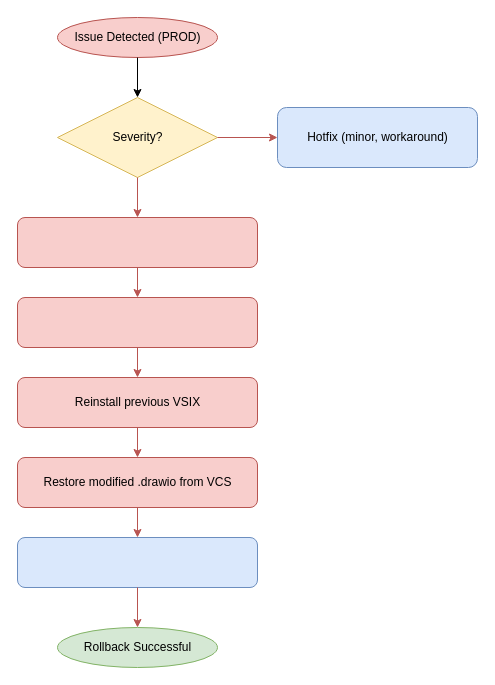
Image size: 495x685. Some labels were removed from this diagram. The box of each missing label's shape, as (x1, y1, x2, y2) in pixels:
Revert code: git checkout prev tag: (16, 296, 258, 348)
Stop broken version (uninstall VSIX): (16, 216, 258, 268)
Verify: tool call returns old behavior: (16, 536, 258, 588)
